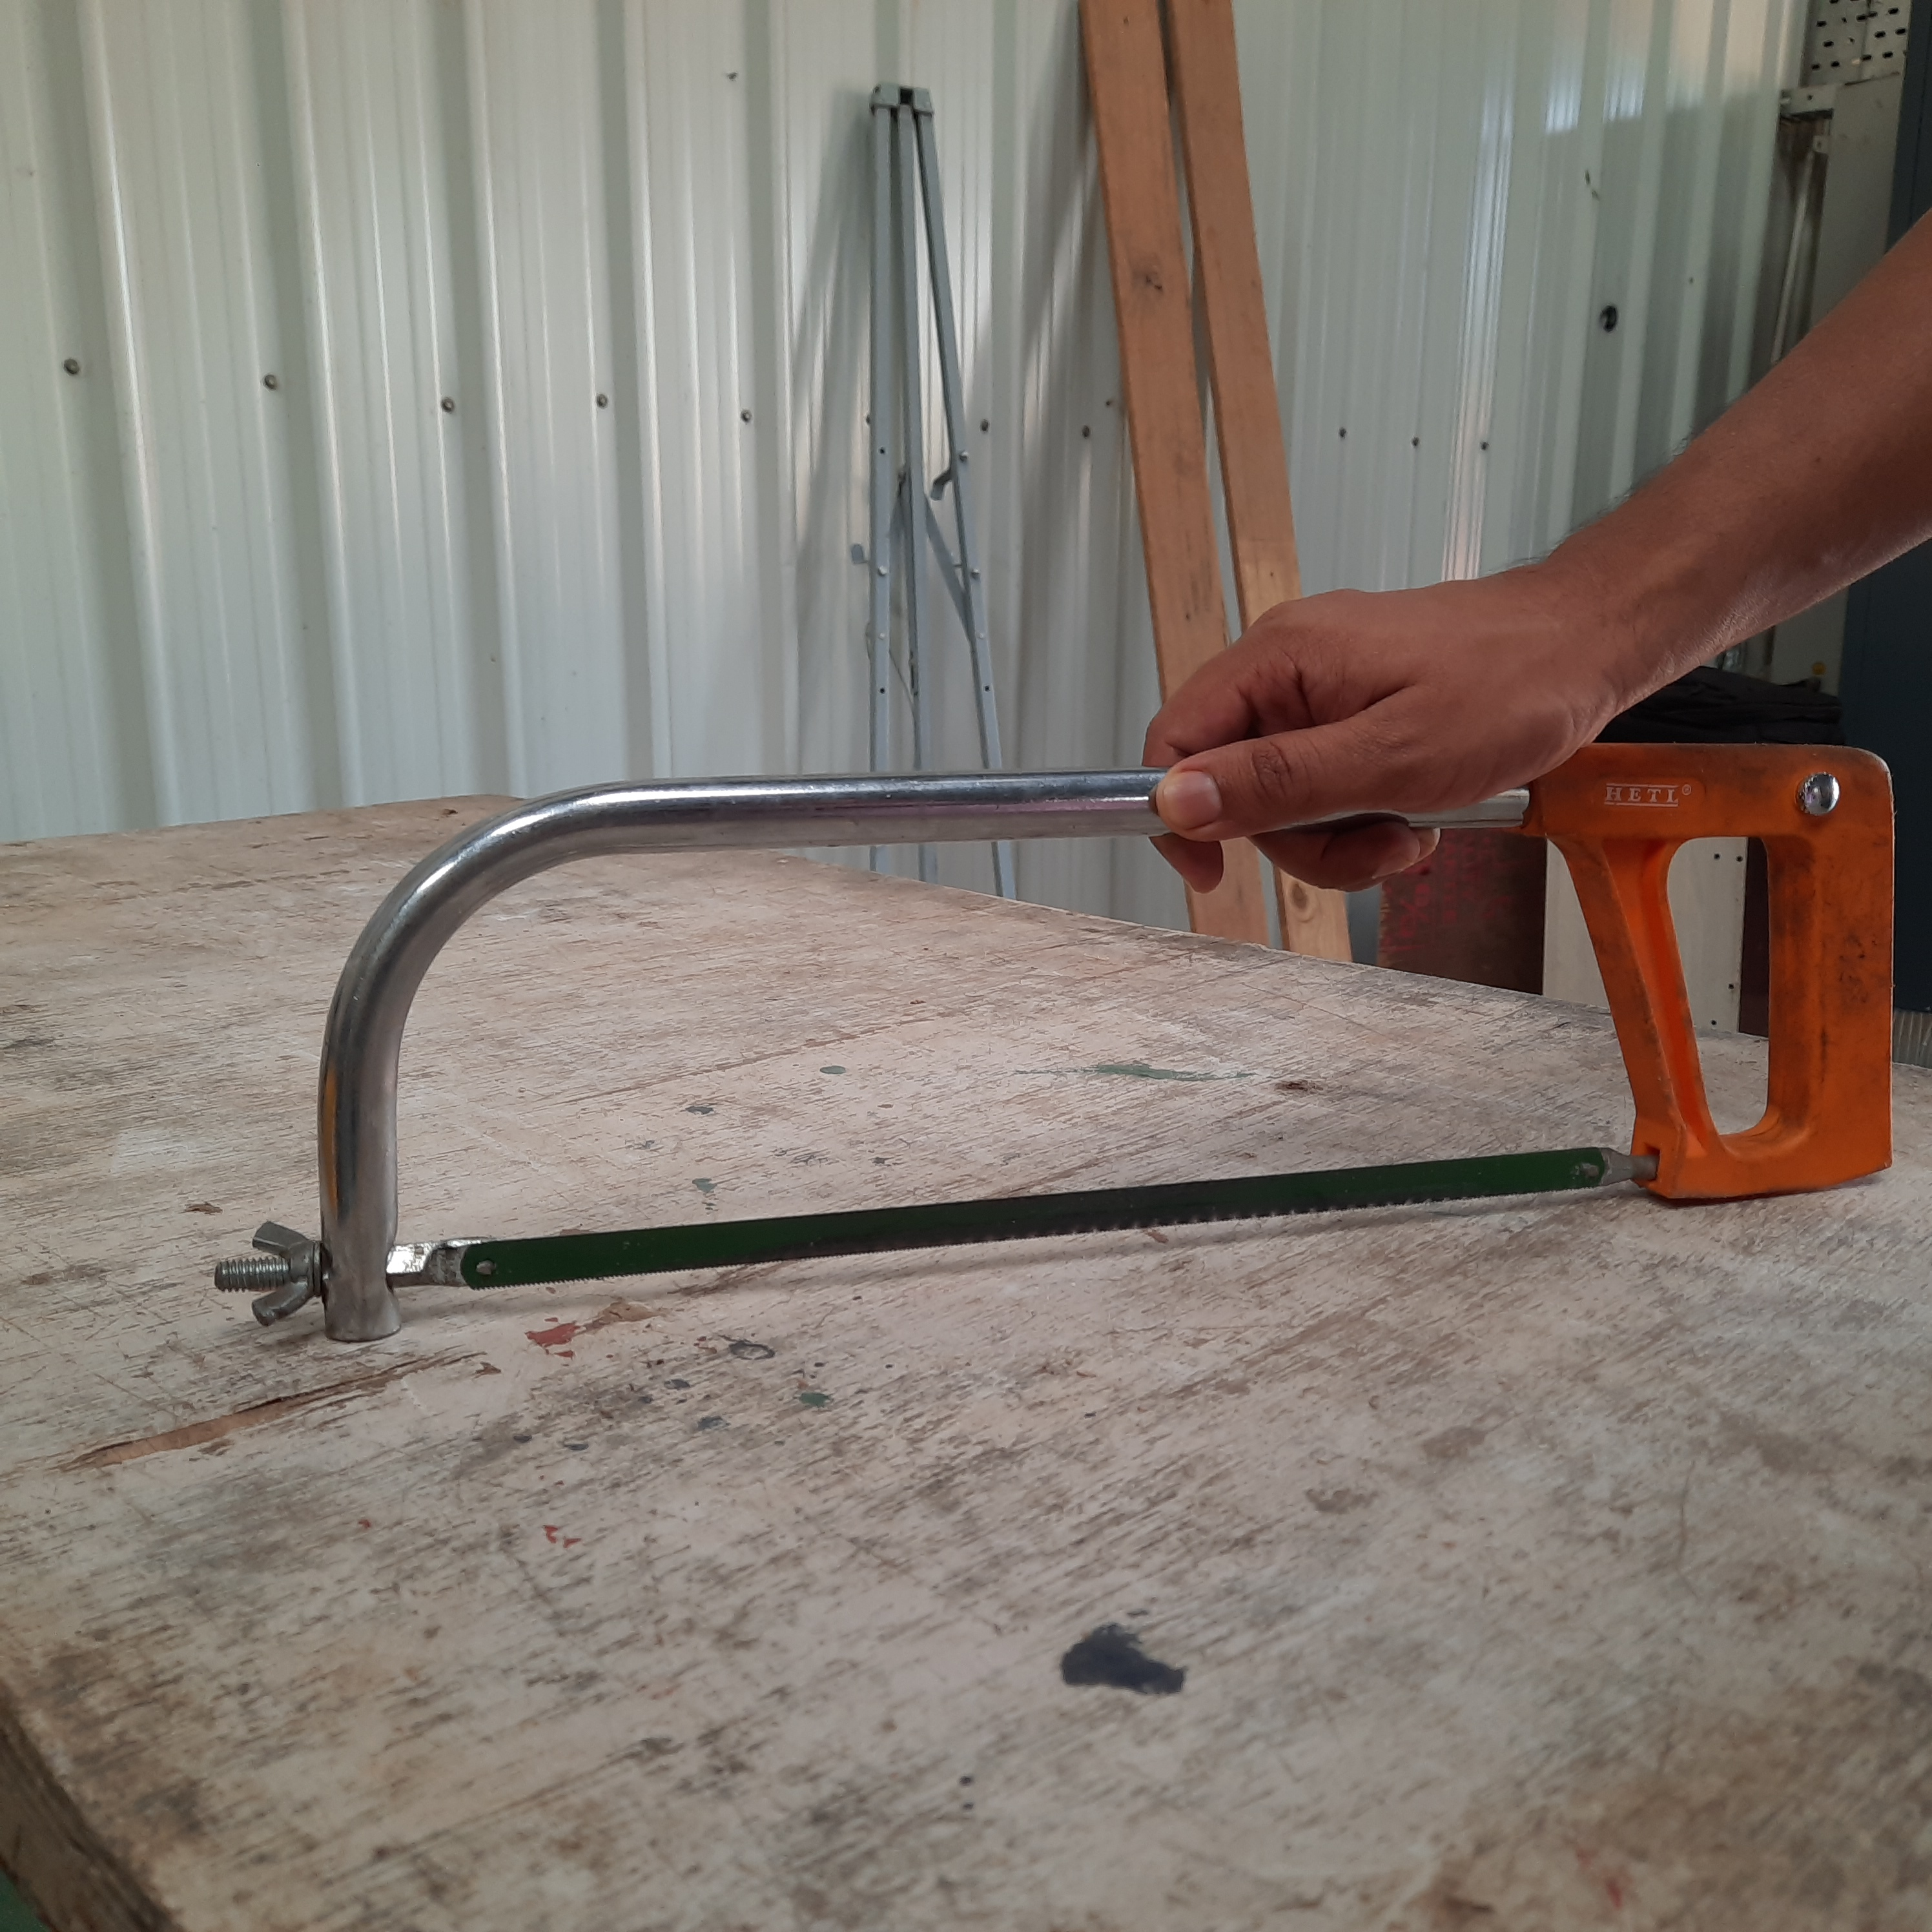Hexaframe: (189, 734, 1918, 1352)
